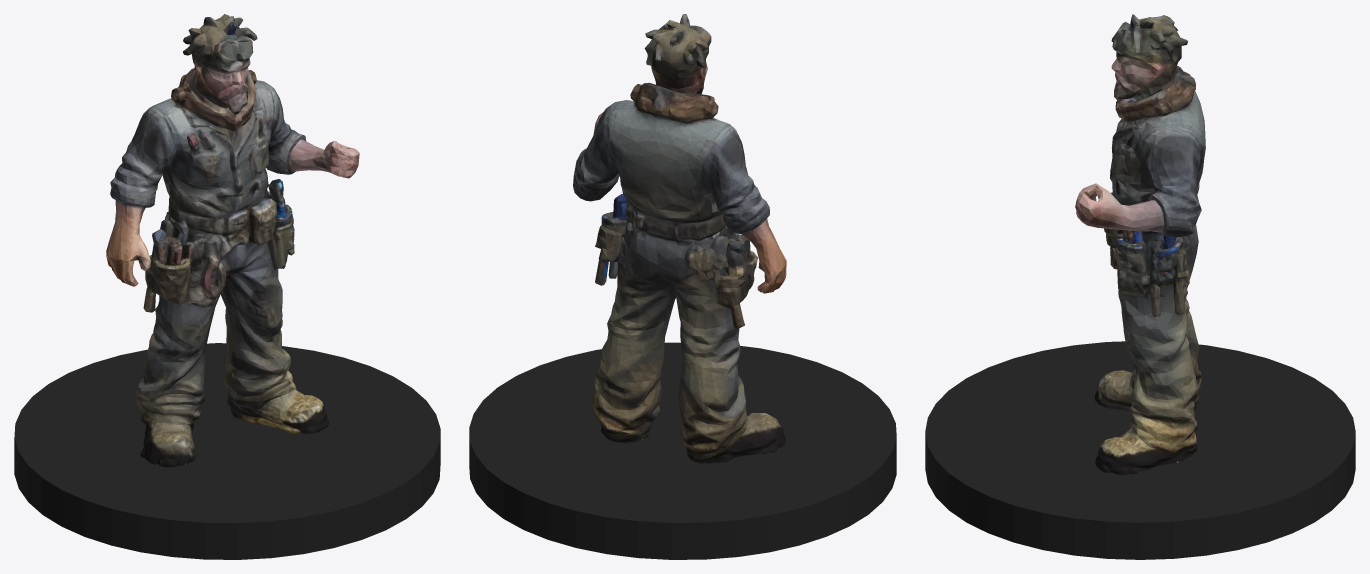
Rendered from enslaved-tech.glb.
The picture shows the model from 3 angles, left to right: view 1: azimuth 30°, elevation 25°; view 2: azimuth 150°, elevation 25°; view 3: azimuth 270°, elevation 25°; orthographic projection.
Visible parts, largest first — view 1: base, figure; view 2: base, figure; view 3: base, figure.
Boxes of the visible parts, x1,y1,x2,y2 form: base: (14, 343, 440, 559); figure: (106, 14, 359, 467); base: (469, 342, 896, 559); figure: (573, 14, 786, 463); base: (925, 341, 1355, 559); figure: (1075, 14, 1205, 475).
Bounding box in the file's own units: 1.26 × 1.47 × 1.26.
Materials: 2 (1 with a texture image).
